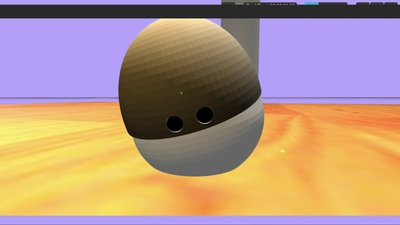mira_robot: (118, 19, 265, 176)
